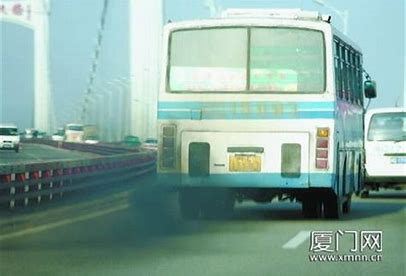smoke: (99, 171, 221, 246)
